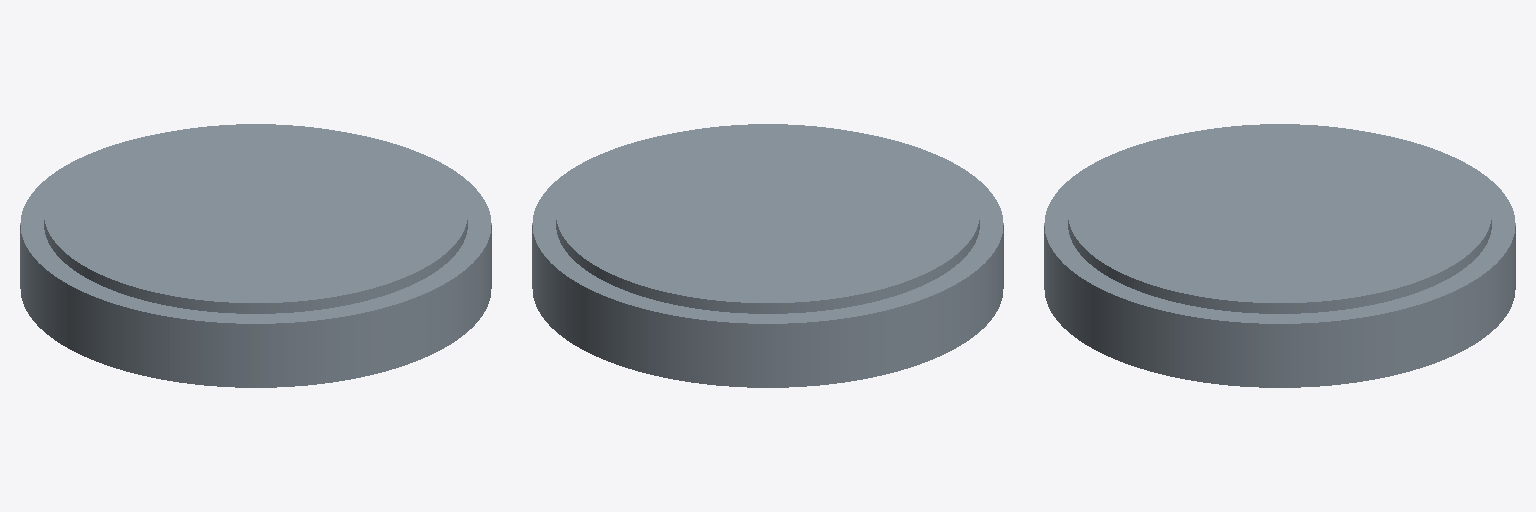
The robot description file, URDF, robot "simple_push_button":
<?xml version="1.0" ?>
<robot name="simple_push_button">
  <joint name="simple_push_button__base_cylinder_fixation" type="fixed">
    <parent link="simple_push_button__base"/>
    <child link="simple_push_button__cylinder"/>
    <origin rpy="0  0  0" xyz="0     0     0.005"/>
    <axis xyz="0  0  0"/>
    <limit effort="0" lower="0" upper="0" velocity="0"/>
  </joint>
  <joint name="simple_push_button__glider" type="prismatic">
    <parent link="simple_push_button__base"/>
    <child link="simple_push_button__button"/>
    <origin rpy="0  0  0" xyz="0     0     0.005"/>
    <axis xyz="0  0  1"/>
    <limit effort="0.0" lower="0.0" upper="0.01" velocity="0.0"/>
  </joint>
  <link name="simple_push_button__base">
    <inertial>
      <mass value="5"/>
      <origin rpy="0  0  0" xyz="0  0  0"/>
      <inertia ixx="0.0500104166667" ixy="0" ixz="0" iyy="0.0500104166667" iyz="0" izz="0.1"/>
    </inertial>
    <collision name="simple_push_button__base_collision">
      <origin rpy="0  0  0" xyz="0  0  0"/>
      <geometry>
        <mesh filename="meshes/base_button.dae" scale="1.0 1.0 1.0"/>
      </geometry>
    </collision>
    <visual name="simple_push_button__base_visual">
      <origin rpy="0  0  0" xyz="0  0  0"/>
      <geometry>
        <mesh filename="meshes/base_button.dae" scale="1.0 1.0 1.0"/>
      </geometry>
    </visual>
  </link>
  <link name="simple_push_button__cylinder">
    <inertial>
      <mass value="5"/>
      <origin rpy="0  0  0" xyz="0  0  0"/>
      <inertia ixx="0.275260416667" ixy="0" ixz="0" iyy="0.275260416667" iyz="0" izz="0.181"/>
    </inertial>
    <collision name="simple_push_button__cylinder_collision">
      <origin rpy="0  0  0" xyz="0  0  0"/>
      <geometry>
        <mesh filename="meshes/base_cylinder.dae" scale="1.0 1.0 1.0"/>
      </geometry>
    </collision>
    <visual name="simple_push_button__cylinder_visual">
      <origin rpy="0  0  0" xyz="0  0  0"/>
      <geometry>
        <mesh filename="meshes/base_cylinder.dae" scale="1.0 1.0 1.0"/>
      </geometry>
    </visual>
  </link>
  <link name="simple_push_button__button">
    <inertial>
      <mass value="0.1"/>
      <origin rpy="0  0  0" xyz="0  0  0"/>
      <inertia ixx="0.0008175" ixy="0" ixz="0" iyy="0.0008175" iyz="0" izz="0.00162"/>
    </inertial>
    <collision name="simple_push_button__button_collision">
      <origin rpy="0  0  0" xyz="0  0  0"/>
      <geometry>
        <mesh filename="meshes/button.dae" scale="1.0 1.0 1.0"/>
      </geometry>
    </collision>
    <visual name="simple_push_button__button_visual">
      <origin rpy="0  0  0" xyz="0  0  0"/>
      <geometry>
        <mesh filename="meshes/button.dae" scale="1.0 1.0 1.0"/>
      </geometry>
    </visual>
  </link>
</robot>

--- What the picture shows (computed from the rendered views, not written in the file) ---
The picture shows the robot from 3 angles, left to right: view 1: azimuth 30°, elevation 25°; view 2: azimuth 150°, elevation 25°; view 3: azimuth 270°, elevation 25°; orthographic projection.
Robot: simple_push_button — 3 links, 2 joints (1 prismatic, 1 fixed); root link simple_push_button__base; default pose: every joint at zero.
Links seen in each view (by area): view 1: simple_push_button__button, simple_push_button__cylinder, simple_push_button__base; view 2: simple_push_button__button, simple_push_button__cylinder, simple_push_button__base; view 3: simple_push_button__button, simple_push_button__cylinder, simple_push_button__base.
Link boxes in pixels (x1,y1,x2,y2): simple_push_button__button: [44, 124, 467, 313]; simple_push_button__cylinder: [20, 131, 491, 376]; simple_push_button__base: [20, 279, 491, 387]; simple_push_button__button: [556, 124, 979, 313]; simple_push_button__cylinder: [532, 131, 1003, 376]; simple_push_button__base: [532, 279, 1003, 387]; simple_push_button__button: [1068, 124, 1491, 313]; simple_push_button__cylinder: [1044, 131, 1515, 376]; simple_push_button__base: [1044, 279, 1515, 387].
Bounding box of the posed robot: 0.2 × 0.2 × 0.035 m (x, y, z).
3 mesh visuals loaded from 3 distinct referenced files (3 Collada DAE).